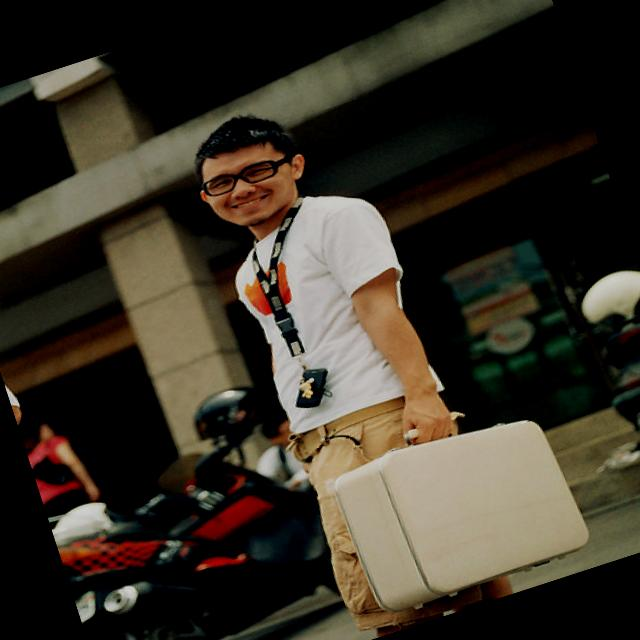Vehicle: (29, 382, 360, 640), (588, 312, 640, 496)
